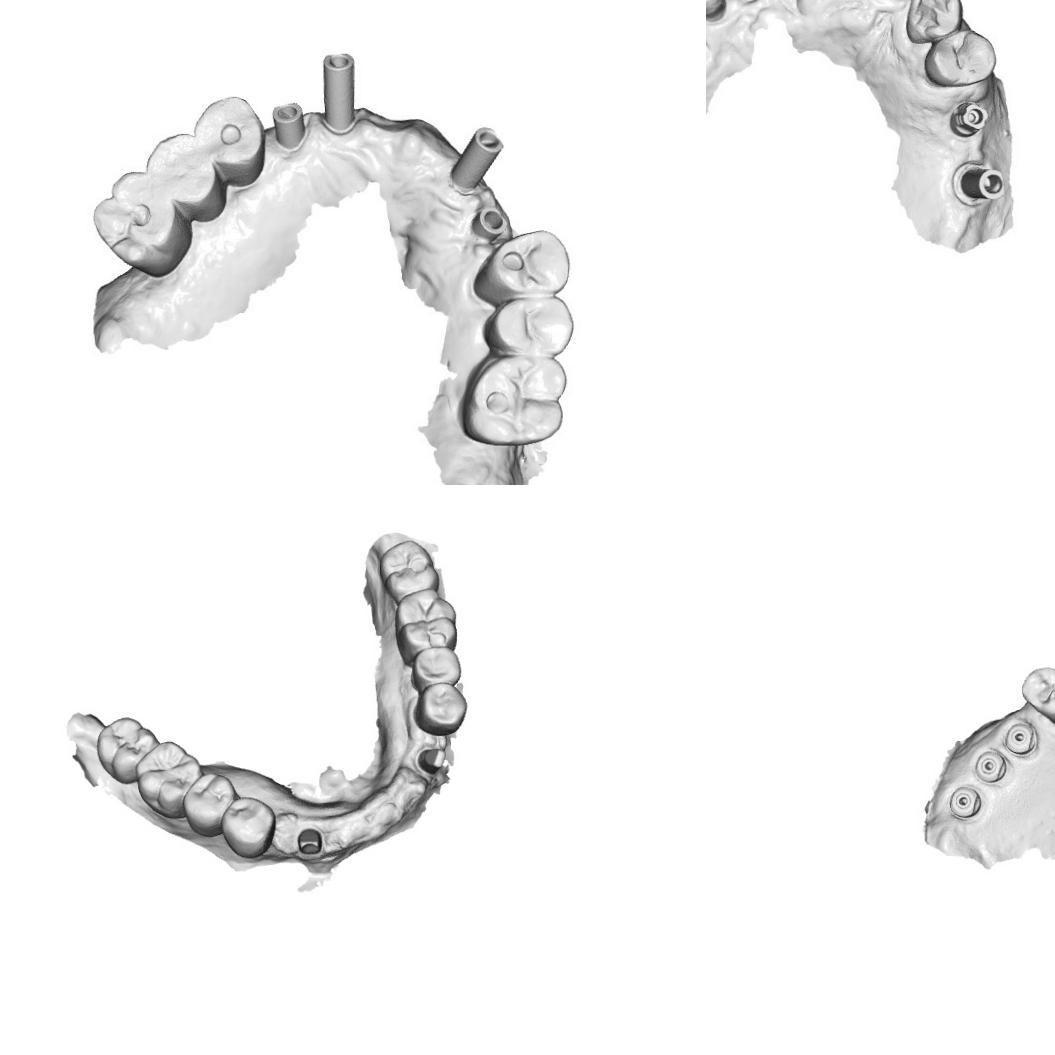abutment: (412, 744, 448, 776), (295, 826, 324, 858)
canine: (899, 0, 962, 46)
implant: (449, 131, 505, 195), (318, 50, 356, 132), (954, 158, 1008, 206), (268, 100, 310, 153), (944, 98, 992, 138), (469, 198, 507, 238), (946, 784, 984, 819), (972, 747, 1007, 784), (1004, 721, 1038, 756)
molar: (90, 171, 196, 286), (460, 354, 574, 448), (134, 738, 204, 821), (393, 586, 459, 662), (96, 715, 161, 786), (378, 538, 441, 602)
premolar: (484, 229, 576, 294), (483, 296, 573, 356), (148, 135, 217, 202), (196, 97, 258, 165), (182, 770, 238, 838), (929, 28, 996, 84), (218, 796, 276, 860), (412, 681, 468, 737), (408, 645, 461, 694), (1018, 663, 1055, 725)
